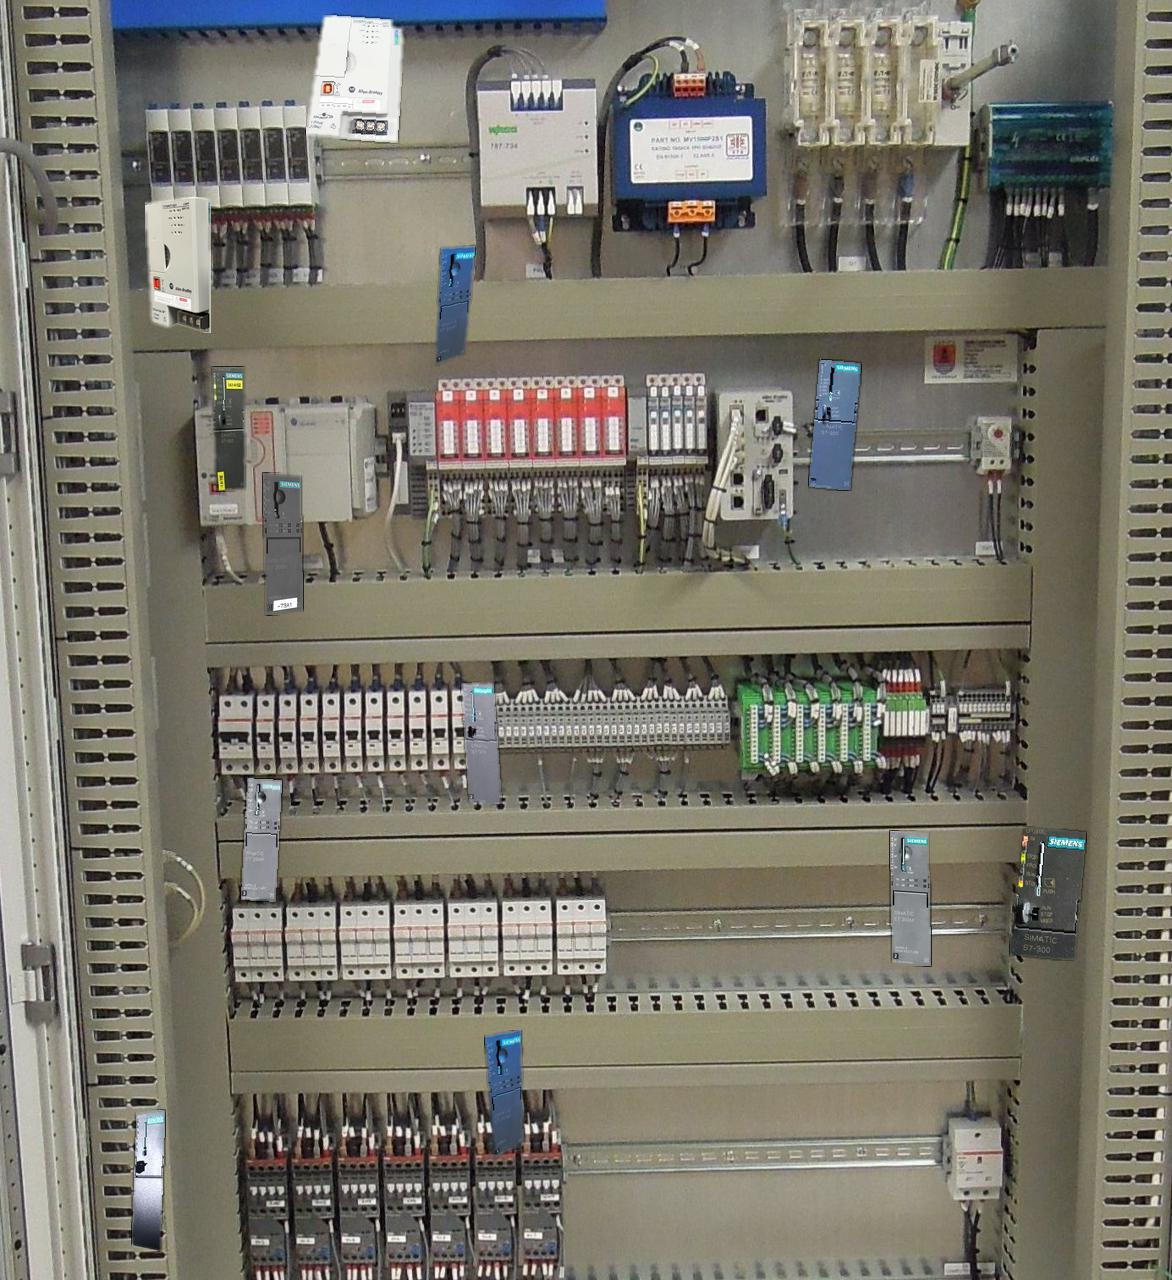AllenBradley: (306, 14, 401, 140), (145, 197, 210, 332)
Siemens: (1010, 828, 1085, 958), (808, 359, 860, 489), (462, 683, 500, 803), (132, 1111, 164, 1250), (212, 367, 244, 489)
